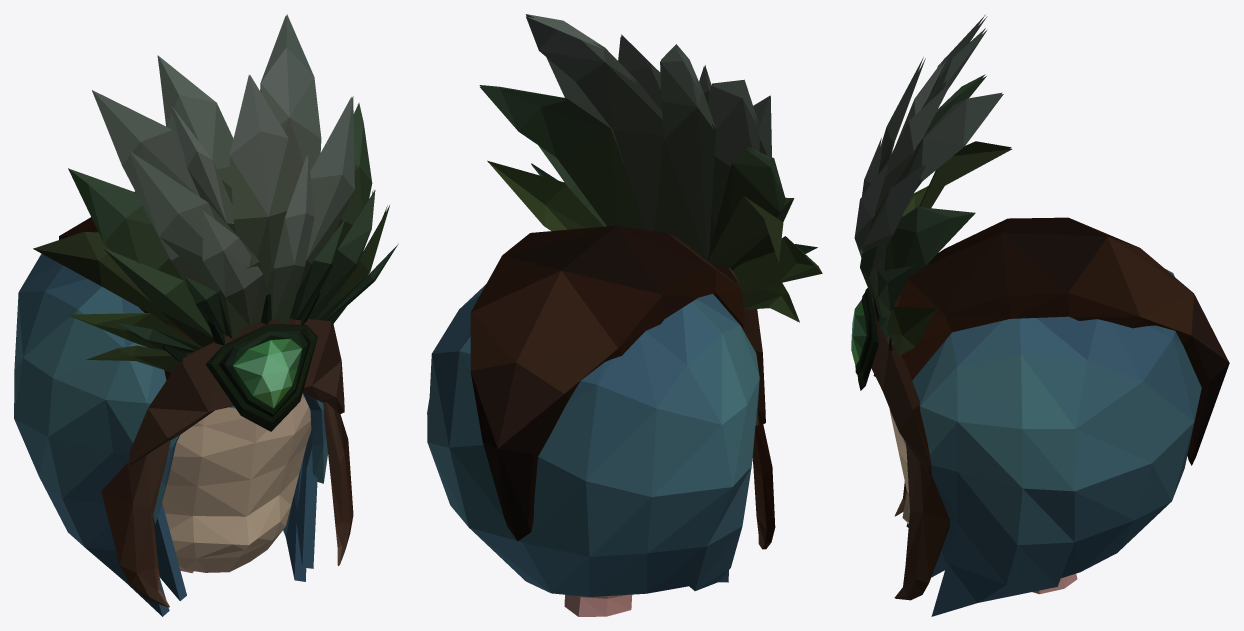
The model's file is helm_lightskin_bob_blue_headress.fbx.
The picture shows the model from 3 angles, left to right: view 1: azimuth 30°, elevation 25°; view 2: azimuth 150°, elevation 25°; view 3: azimuth 270°, elevation 25°; orthographic projection. The views are drawn at different scales.
Parts seen in each view (by area): view 1: helm_lightskin_bob_blue_headress; view 2: helm_lightskin_bob_blue_headress; view 3: helm_lightskin_bob_blue_headress.
Part boxes in pixels (x1,y1,x2,y2): helm_lightskin_bob_blue_headress: [14, 14, 398, 616]; helm_lightskin_bob_blue_headress: [427, 14, 822, 616]; helm_lightskin_bob_blue_headress: [851, 14, 1229, 616].
Size of the model in its own units: 1.29 by 2.07 by 1.32.
